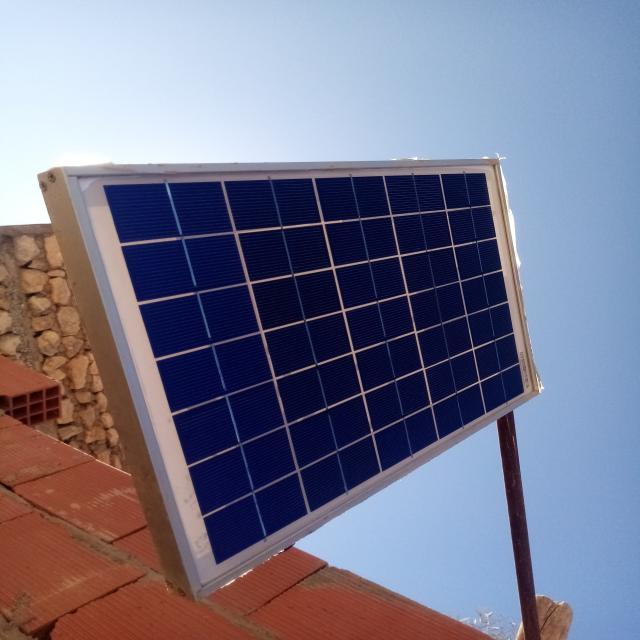no faulty: (66, 160, 542, 595)
